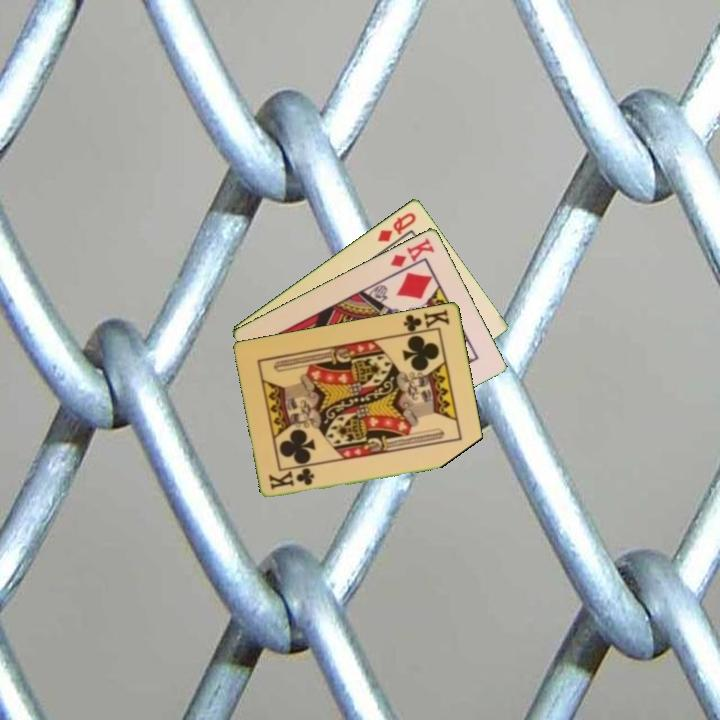Kc: (400, 306, 453, 337), (266, 465, 317, 493)
Kd: (387, 234, 438, 270)
Qd: (374, 208, 419, 244)
